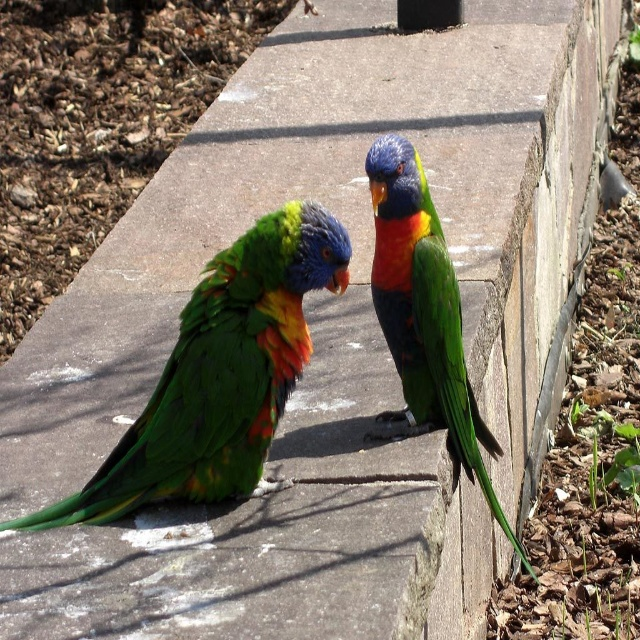Parrot: (0, 197, 352, 531), (364, 132, 539, 587)
